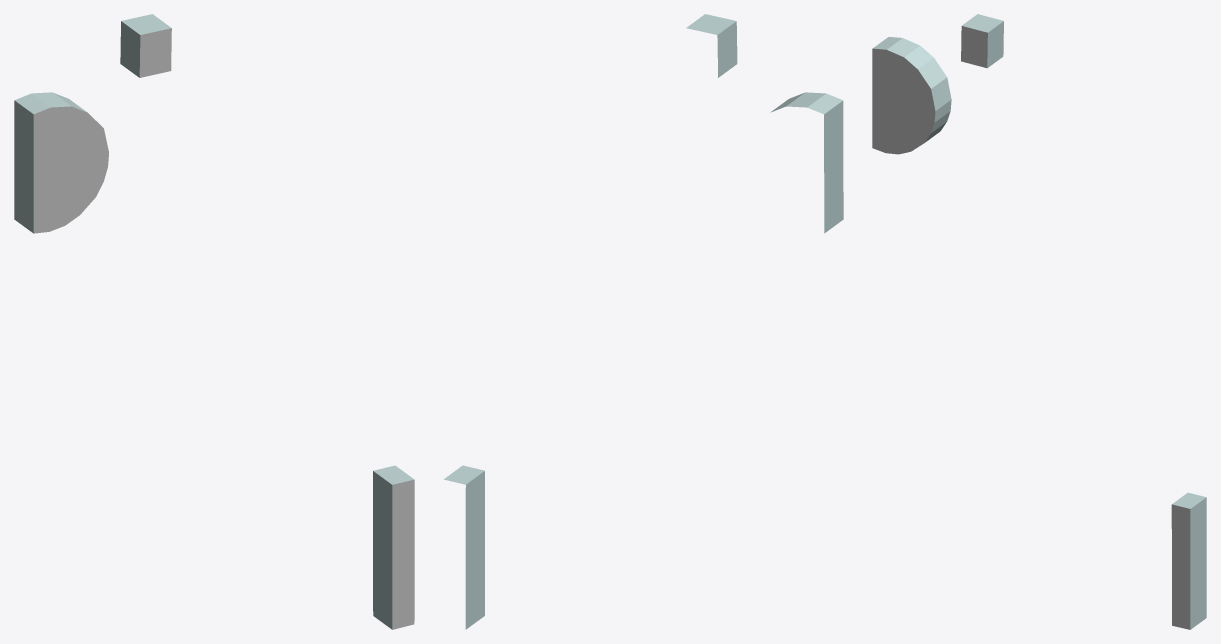
The picture shows the model from 3 angles, left to right: view 1: azimuth 30°, elevation 25°; view 2: azimuth 150°, elevation 25°; view 3: azimuth 330°, elevation 25°; orthographic projection. The views are drawn at different scales.
Visible parts, largest first — view 1: 0_2_1_0_2_1_1_0_0; view 2: 0_2_1_0_2_1_1_0_0; view 3: 0_2_1_0_2_1_1_0_0.
Part boxes in pixels (bbox=[...]): 0_2_1_0_2_1_1_0_0: bbox=[14, 14, 414, 629]; 0_2_1_0_2_1_1_0_0: bbox=[444, 14, 843, 629]; 0_2_1_0_2_1_1_0_0: bbox=[872, 14, 1206, 629].
Bounding box in the file's own units: 34.19 × 56.29 × 3.03.
